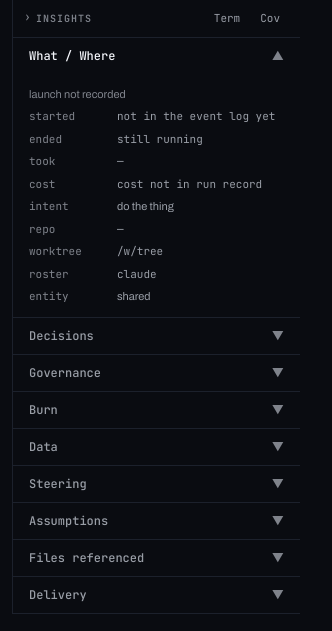
Scenario: a run that delivered NOTHING (EC56) › a run with no deliver phase names the worktree and the remedy, and reads nothing
What coordinates should you click on to do the following:
click the button "Delivery ▼"
I would click on:
 (58, 594)
Its box is left=13, top=576, right=300, bottom=612.
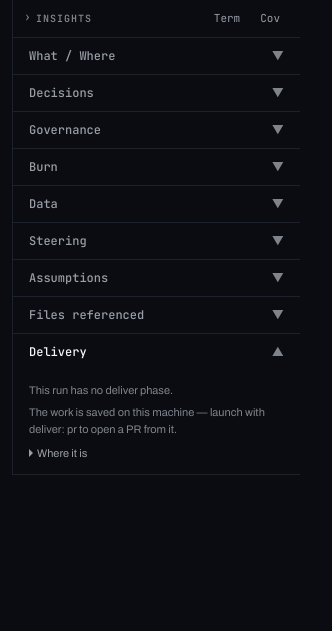
expect the element with test id "run-delivery" shows "deliver: pr": met, box left=29, top=406, right=265, bottom=434
